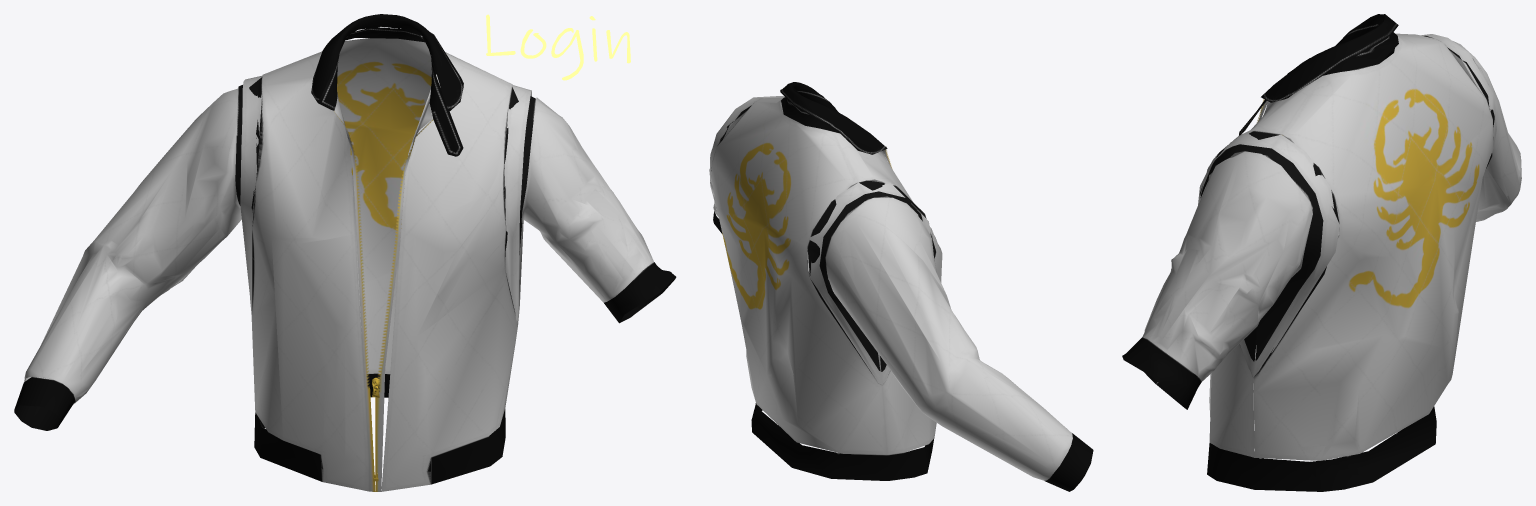
Rendered from login.glb.
3 views of the same model, side by side, from view 1: azimuth 30°, elevation 25°; view 2: azimuth 150°, elevation 25°; view 3: azimuth 270°, elevation 25° (orthographic). The views are drawn at different scales.
Parts seen in each view (by area): view 1: login, Login; view 2: login; view 3: login.
Boxes of the visible parts, x1,y1,x2,y2 form: login: (14,14,676,491); Login: (486,14,630,80); login: (709,82,1093,491); login: (1122,14,1521,491).
Size of the model in its own units: 0.9117 by 0.6784 by 0.5416.
Materials: 3 (1 with a texture image).
